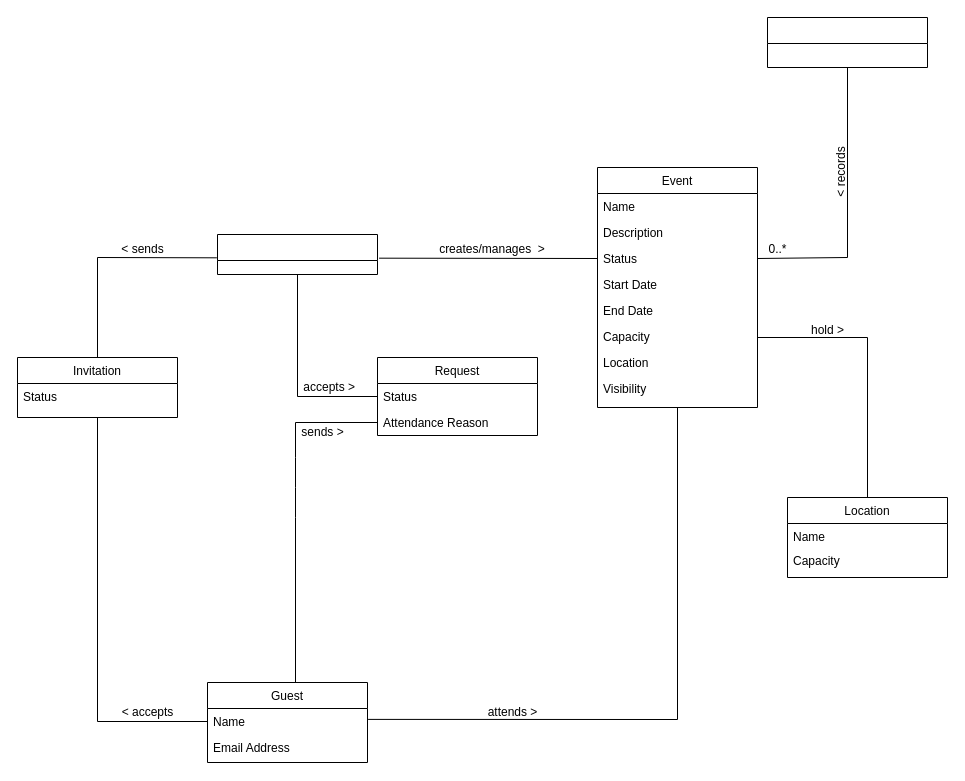
Image size: 965x781. Some labels were removed from this diagram. The centre of each missing label's shape, as x and y in pixels:
Historic: point 847,42
Manager: point 297,254
